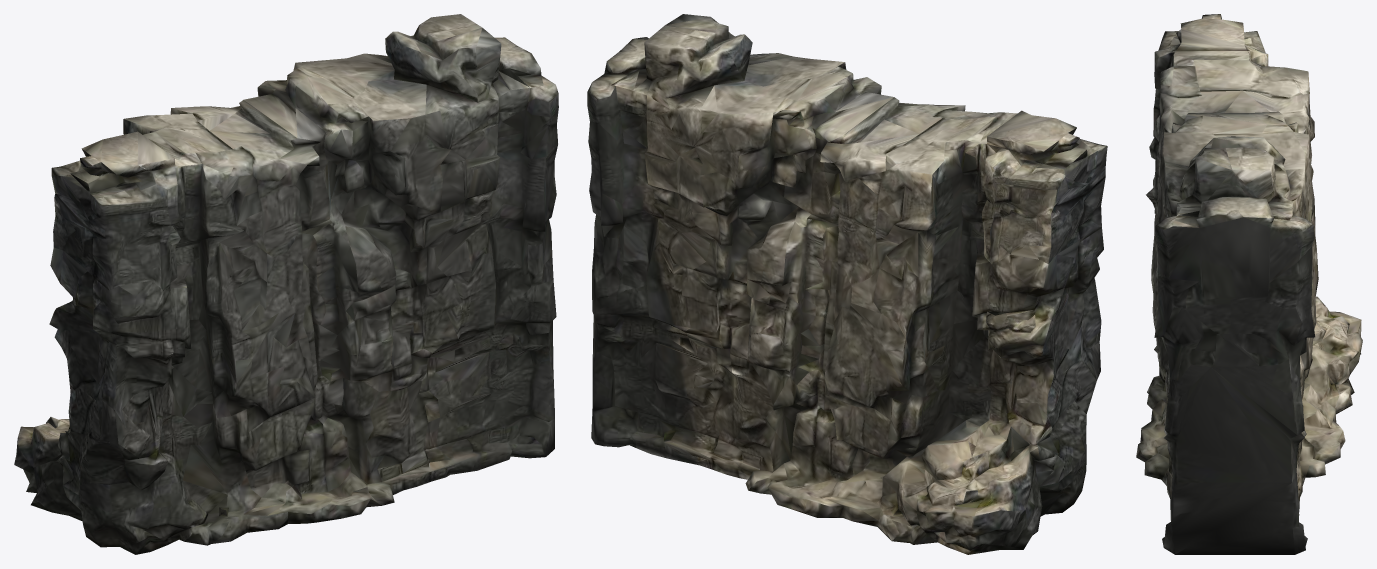
Rendered from canyon_wall.glb.
3 views of the same model, side by side, from view 1: azimuth 30°, elevation 25°; view 2: azimuth 150°, elevation 25°; view 3: azimuth 270°, elevation 25° (orthographic). The views are drawn at different scales.
Parts seen in each view (by area): view 1: Natural limestone canyon wall from Studio; view 2: Natural limestone canyon wall from Studio; view 3: Natural limestone canyon wall from Studio.
Part boxes in pixels (x1,y1,x2,y2): Natural limestone canyon wall from Studio: (14,14,558,554); Natural limestone canyon wall from Studio: (587,14,1107,554); Natural limestone canyon wall from Studio: (1136,14,1362,554).
Bounding box in the file's own units: 12 × 10.26 × 5.72.
Materials: 1 (1 with a texture image).
